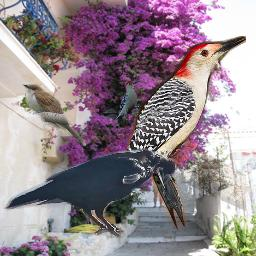Crow: (3, 148, 177, 238)
Cuckoo: (22, 84, 86, 146)
Woodpecker: (108, 36, 246, 232), (116, 80, 140, 120)
